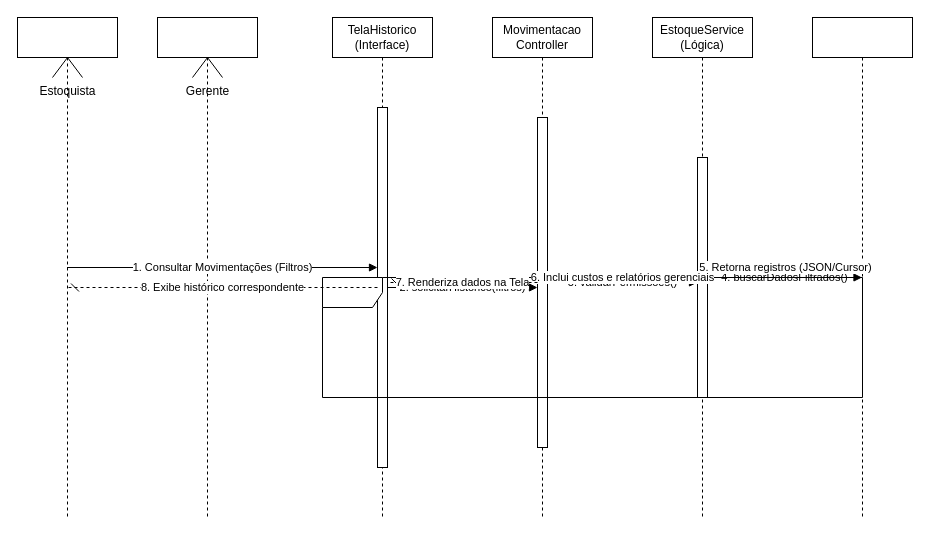
Image size: 930x535. Some labels were removed from this diagram. The box of each missing label's shape, as (x1, y1, x2, y2) in pixels:
alt [Se Usuário == Gerente]: (322, 276, 862, 398)
BancoDeDados (DB): (812, 16, 912, 518)
